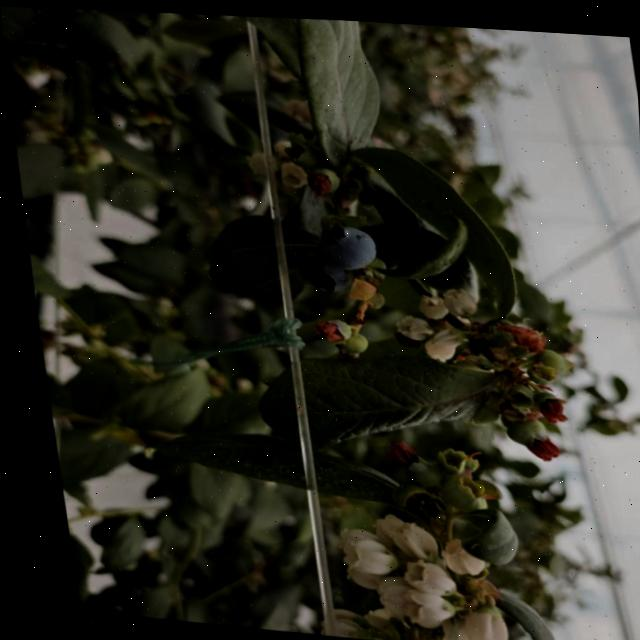RipeBlueBerry: (307, 219, 377, 275), (288, 244, 349, 295)
